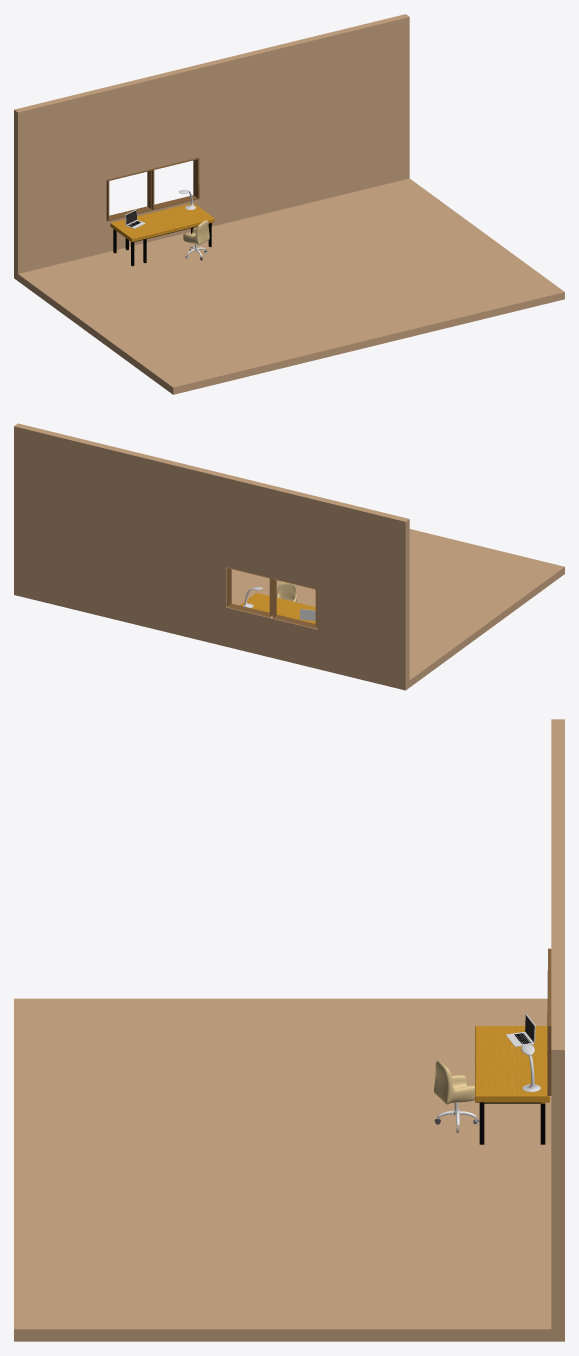
Rendered from desk.glb.
The picture shows the model from 3 angles, top to bottom: view 1: azimuth 30°, elevation 25°; view 2: azimuth 150°, elevation 25°; view 3: azimuth 270°, elevation 25°; orthographic projection. The views are drawn at different scales.
Parts seen in each view (by area): view 1: wall, desk, window, chair; view 2: wall, window, desk; view 3: wall, desk, chair.
Part boxes in pixels (x1,y1,x2,y2): wall: (14,14,564,394); desk: (110,203,214,266); window: (106,157,199,221); chair: (183,220,209,260); wall: (14,423,564,690); window: (226,567,317,628); desk: (240,593,315,623); wall: (14,719,564,1341); desk: (475,1026,549,1144); chair: (434,1060,479,1132).
Size of the model in its own units: 59.32 by 24.4 by 41.77.
10 materials, 1 textured.
